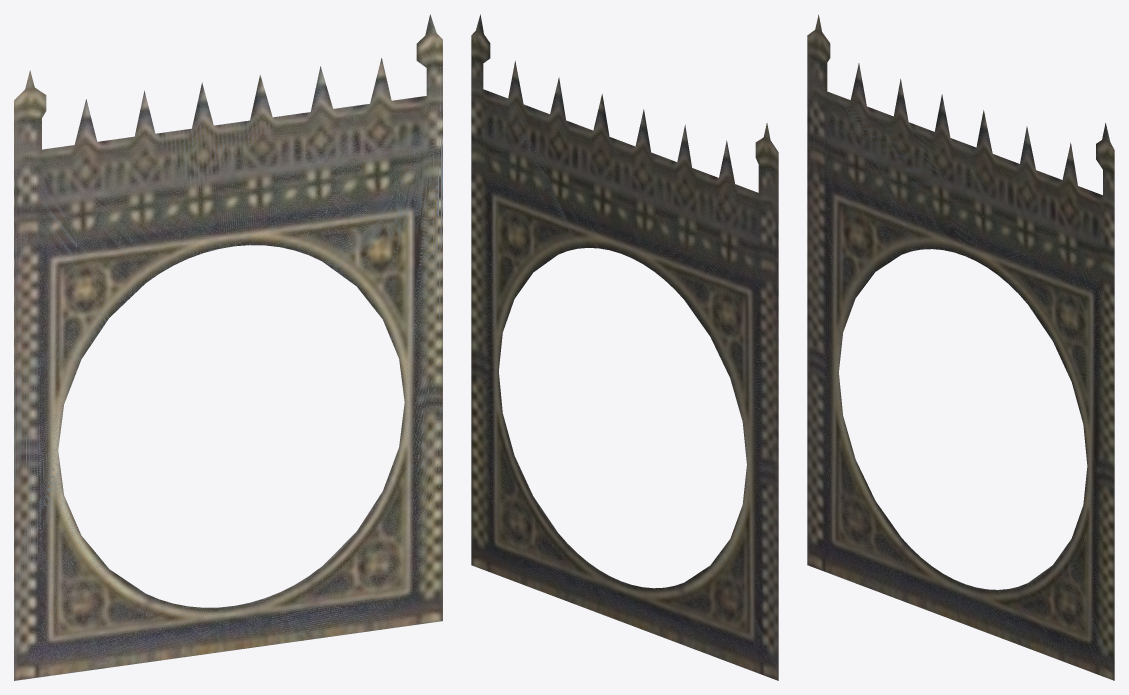
Rendered from 大本钟173.dae.
3 views of the same model, side by side, from view 1: azimuth 30°, elevation 25°; view 2: azimuth 150°, elevation 25°; view 3: azimuth 330°, elevation 25° (orthographic). The views are drawn at different scales.
Visible parts, largest first — view 1: SketchUp; view 2: SketchUp; view 3: SketchUp.
Boxes of the visible parts, x1,y1,x2,y2 form: SketchUp: (14, 14, 442, 680); SketchUp: (471, 14, 778, 680); SketchUp: (807, 14, 1114, 680).
Size of the model in its own units: 343 by 71.24 by 522.
Materials: 2 (1 with a texture image).
